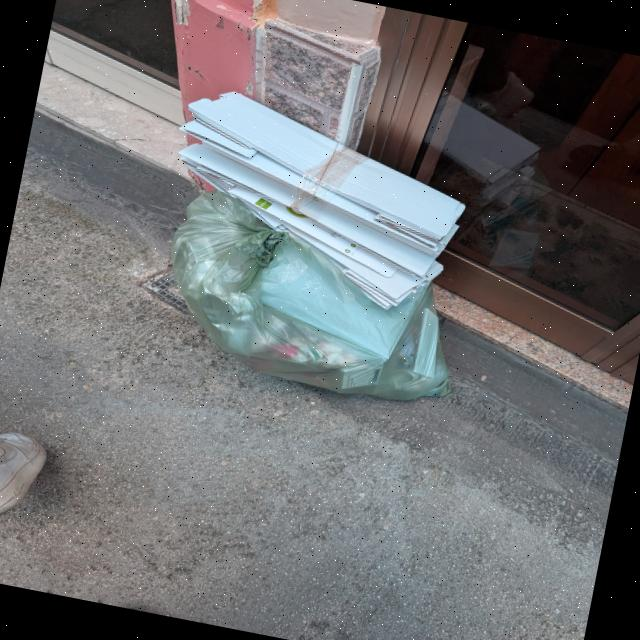Other Waste: (152, 81, 478, 320)
Recyclable Material: (150, 183, 482, 414)
